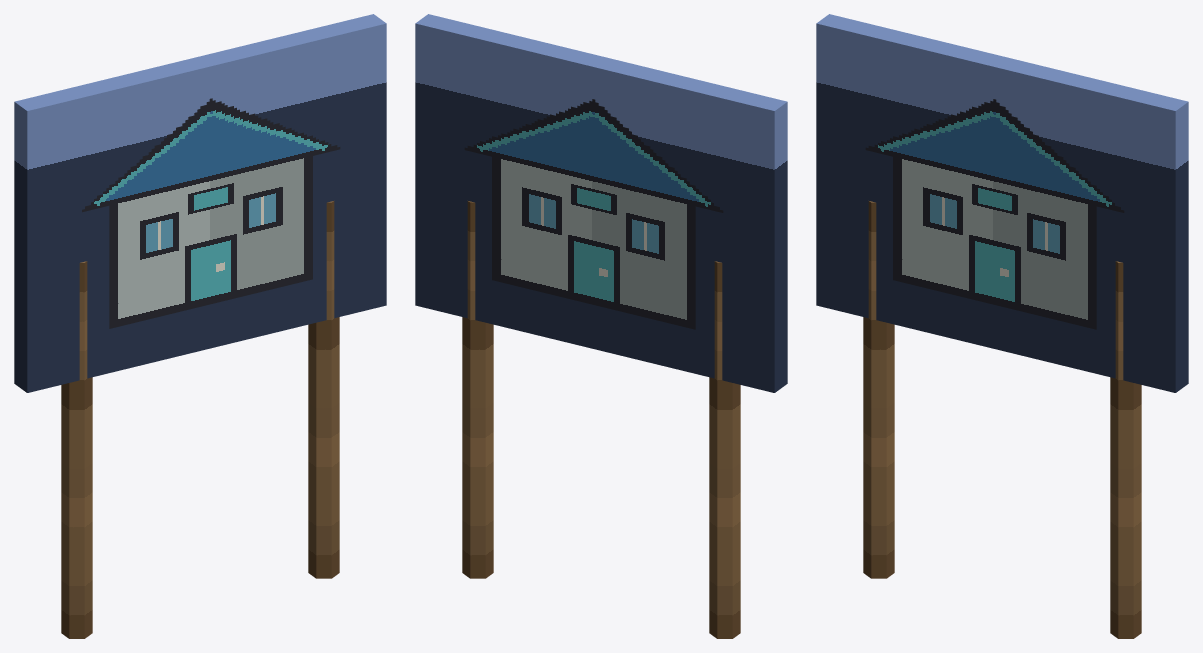
Rendered from sign_lab.glb.
3 views of the same model, side by side, from view 1: azimuth 30°, elevation 25°; view 2: azimuth 150°, elevation 25°; view 3: azimuth 330°, elevation 25° (orthographic).
Parts seen in each view (by area): view 1: sign_lab; view 2: sign_lab; view 3: sign_lab.
Boxes of the visible parts, x1,y1,x2,y2 form: sign_lab: (14,14,386,638); sign_lab: (415,14,787,638); sign_lab: (816,14,1188,638).
Size of the model in its own units: 1.6 by 2.3 by 0.14.
3 materials, 3 textured.
